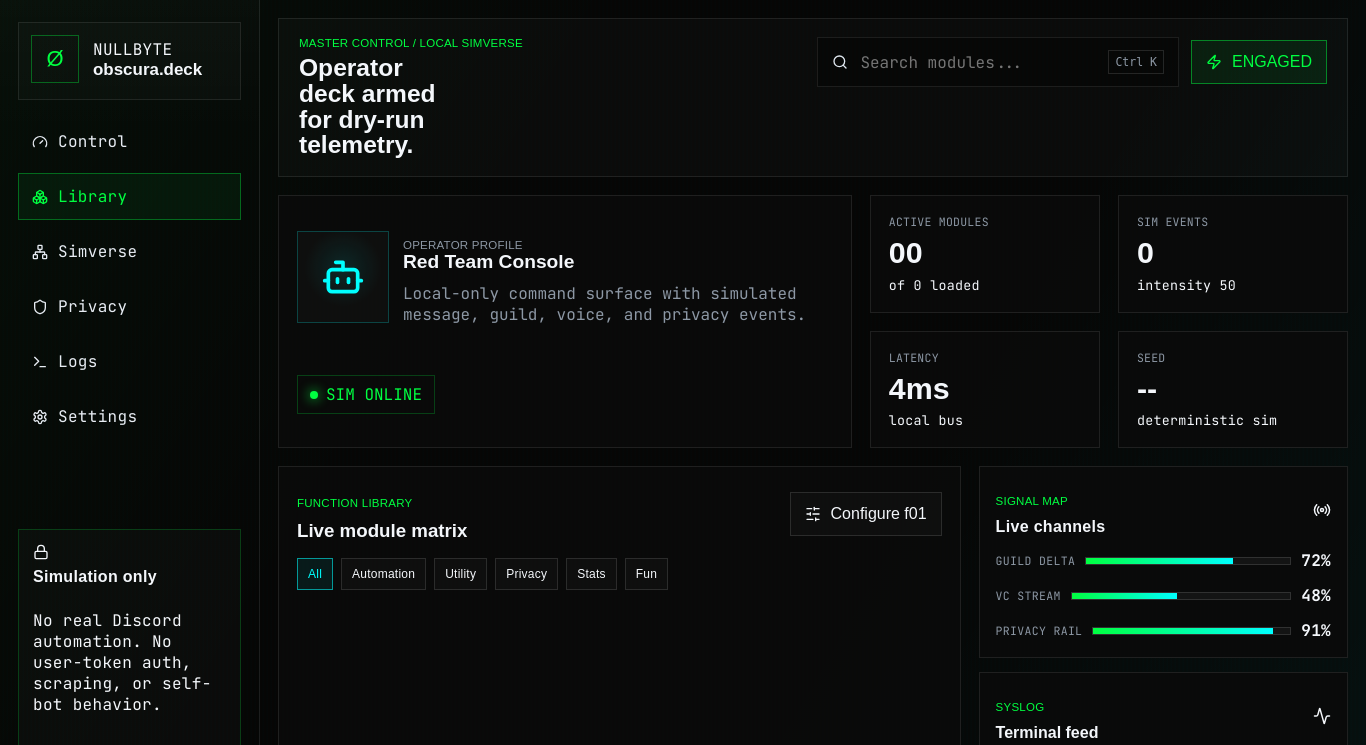
Test: App › toggles sim intensity with the engage button
This screenshot has width=1366, height=745.
Click the button with test id "engage-button": (1259, 62) [1191,40,1327,84]
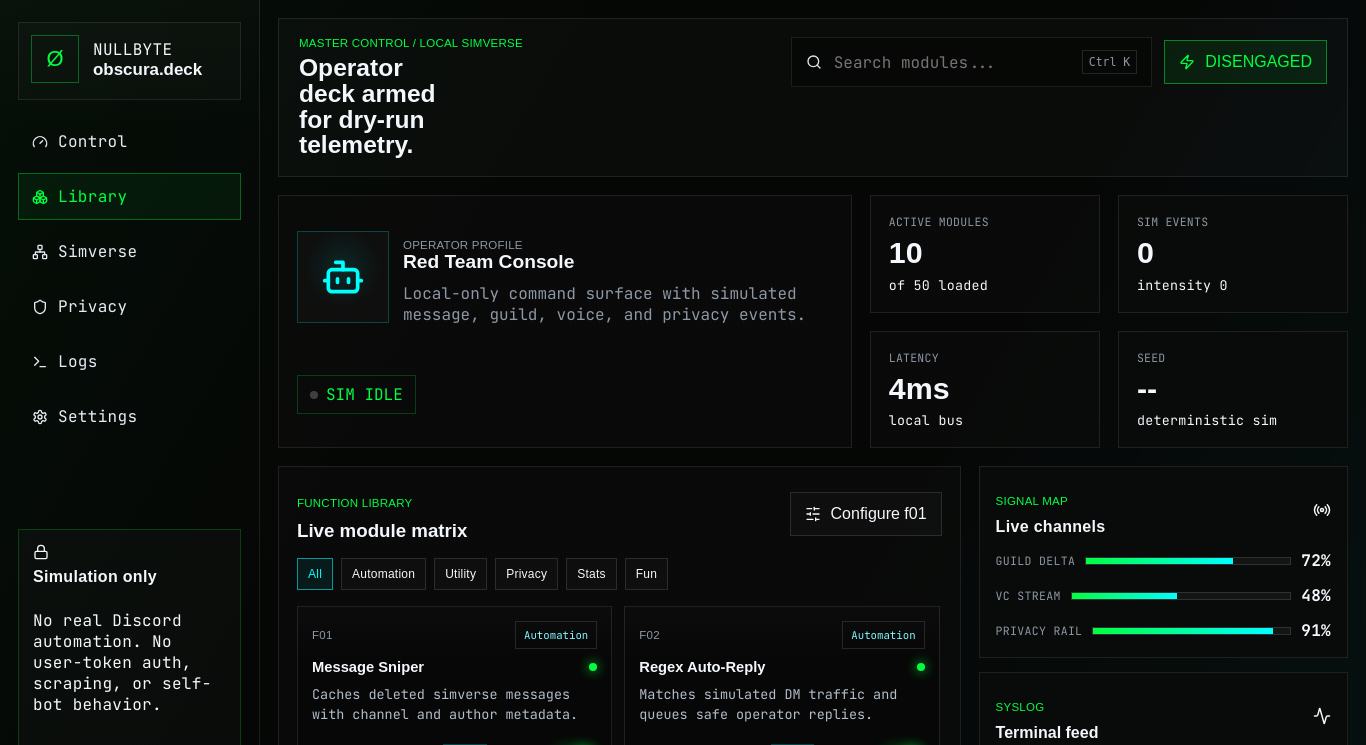
Expected: the button with test id "engage-button" reads "DISENGAGED", [1164,40,1327,84]
